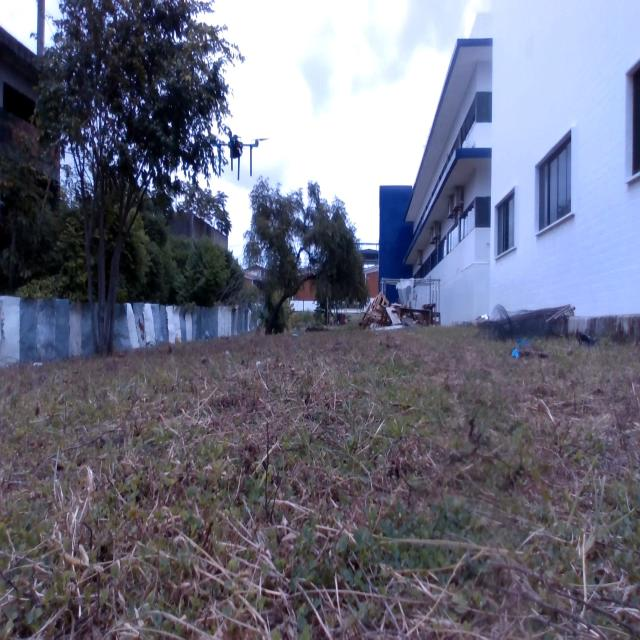-uav-: (202, 120, 271, 185)
